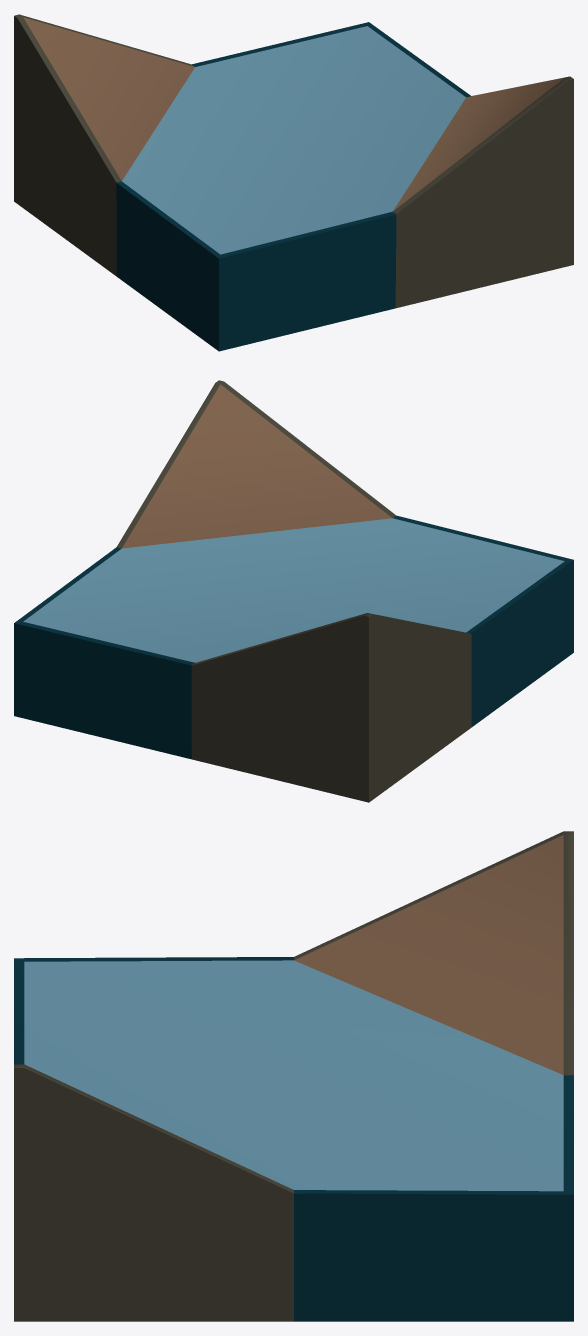
File: Agua_20.fbx
The picture shows the model from 3 angles, top to bottom: view 1: azimuth 30°, elevation 25°; view 2: azimuth 150°, elevation 25°; view 3: azimuth 270°, elevation 25°; orthographic projection. The views are drawn at different scales.
Visible parts, largest first — view 1: pCube7; view 2: pCube7; view 3: pCube7.
Part boxes in pixels (bbox=[...]): pCube7: bbox=[14, 14, 573, 351]; pCube7: bbox=[14, 380, 573, 802]; pCube7: bbox=[14, 831, 573, 1321].
Bounding box in the file's own units: 200 × 100 × 200.
